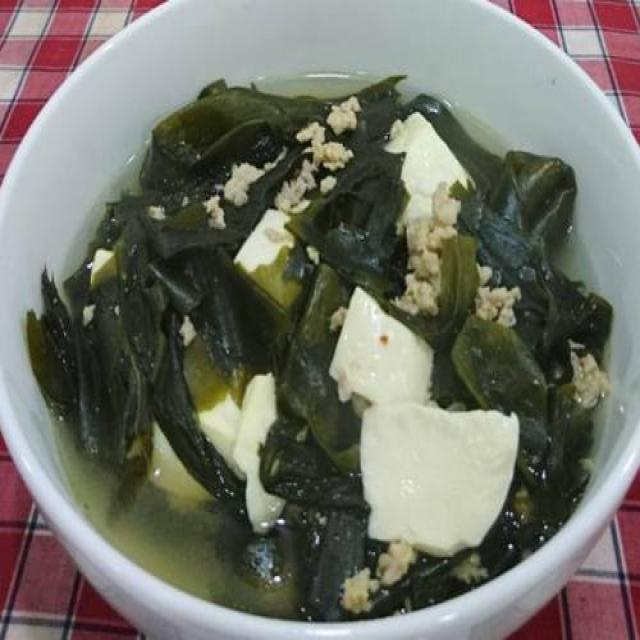canh rong bien: (36, 82, 611, 621)
